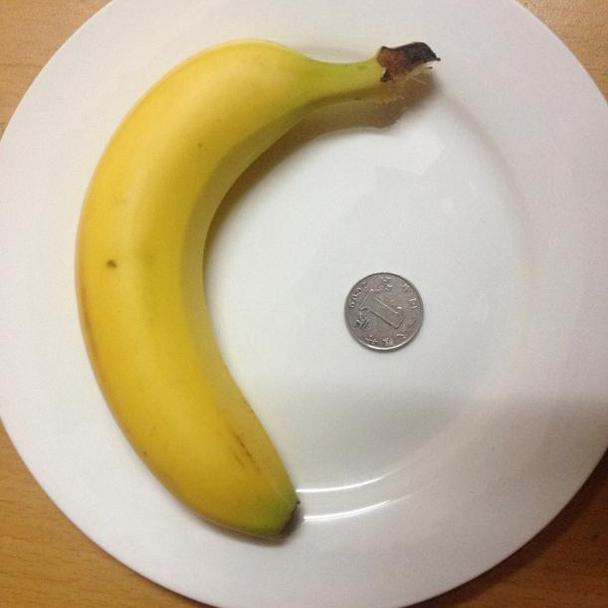banana: (67, 38, 416, 540)
